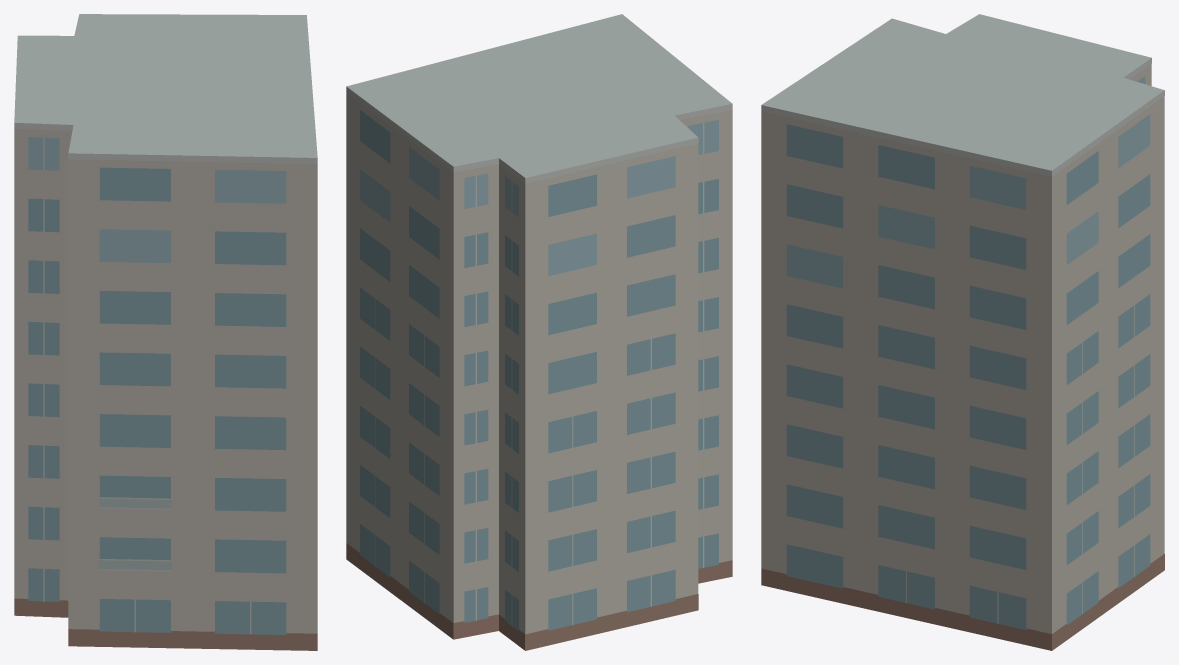
The model's file is survey-upis-32929921.glb.
3 views of the same model, side by side, from view 1: azimuth 30°, elevation 25°; view 2: azimuth 150°, elevation 25°; view 3: azimuth 270°, elevation 25° (orthographic). The views are drawn at different scales.
Visible parts, largest first — view 1: survey-upis-32929921.tmp; view 2: survey-upis-32929921.tmp; view 3: survey-upis-32929921.tmp.
Boxes of the visible parts, left/top/right/bottom form: survey-upis-32929921.tmp: left=14, top=14, right=317, bottom=650; survey-upis-32929921.tmp: left=346, top=14, right=732, bottom=650; survey-upis-32929921.tmp: left=761, top=14, right=1164, bottom=650.
Size of the model in its own units: 13.98 by 19.95 by 15.2.
